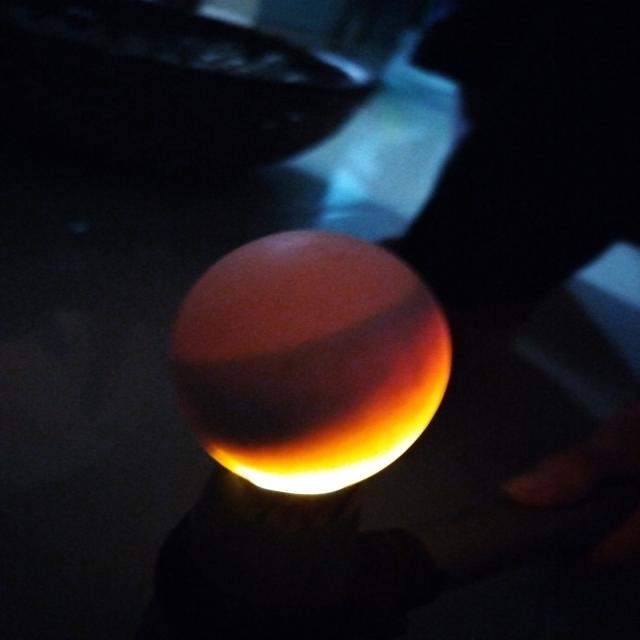Area Infectada: (169, 285, 427, 448)
